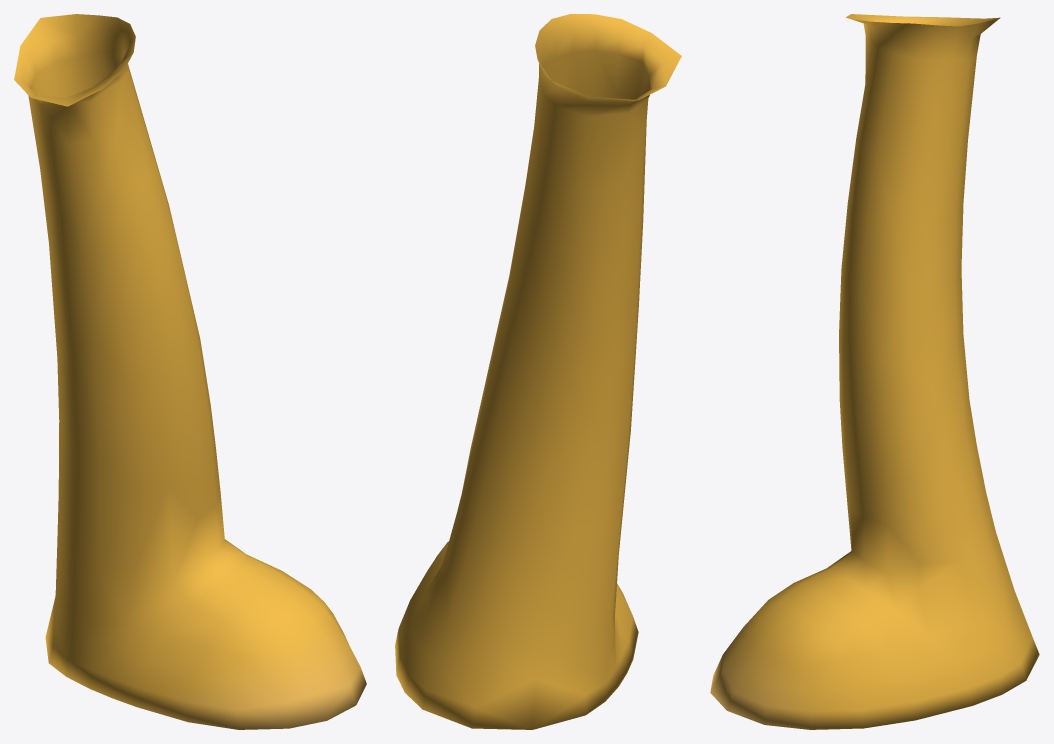
Rendered from Jake_pierna_der.obj.
3 renders of one model, left to right at view 1: azimuth 30°, elevation 25°; view 2: azimuth 150°, elevation 25°; view 3: azimuth 270°, elevation 25°, orthographic. The views are drawn at different scales.
Visible parts, largest first — view 1: Jake_pierna_der; view 2: Jake_pierna_der; view 3: Jake_pierna_der.
Boxes of the visible parts, x1,y1,x2,y2 form: Jake_pierna_der: [14, 14, 366, 729]; Jake_pierna_der: [395, 14, 681, 729]; Jake_pierna_der: [710, 14, 1039, 729].
Bounding box in the file's own units: 0.416 × 0.9316 × 0.4423.
